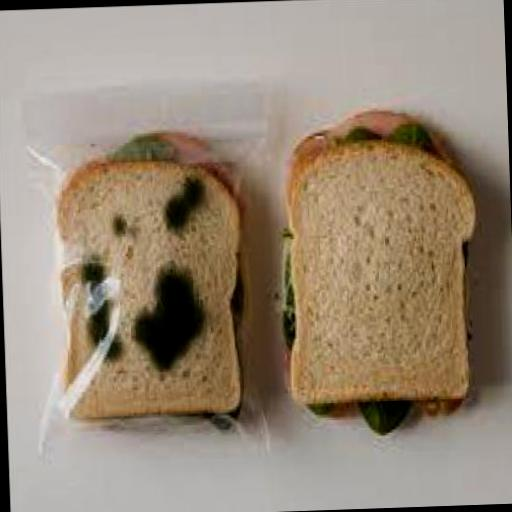biodegradable: (53, 145, 249, 422), (283, 134, 482, 406), (324, 104, 448, 143), (158, 128, 231, 180), (278, 226, 300, 350), (356, 396, 410, 432), (385, 118, 435, 148), (294, 126, 337, 148), (345, 121, 380, 142), (308, 400, 348, 416), (420, 396, 460, 412), (210, 410, 233, 428), (114, 160, 178, 164)
plastic: (25, 76, 278, 466)
